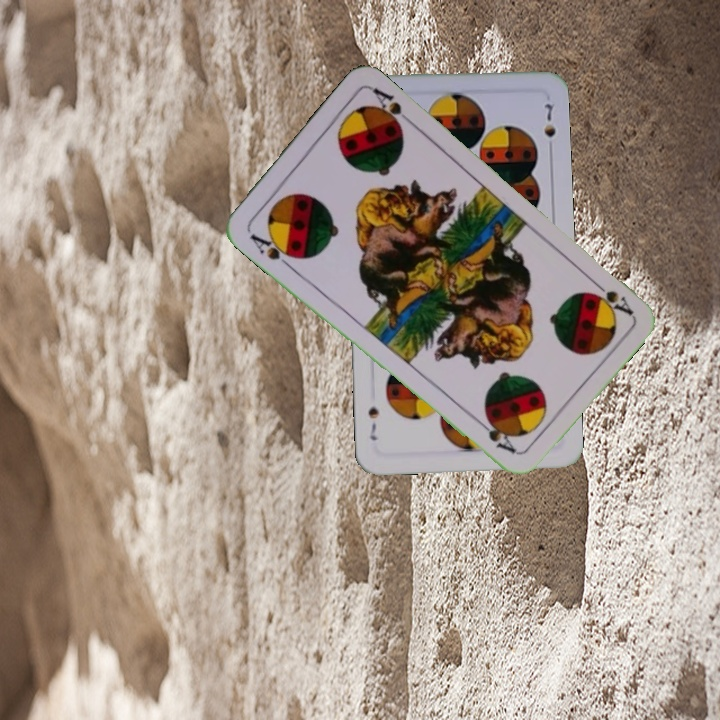SA: (585, 274, 636, 318), (246, 229, 299, 270)
